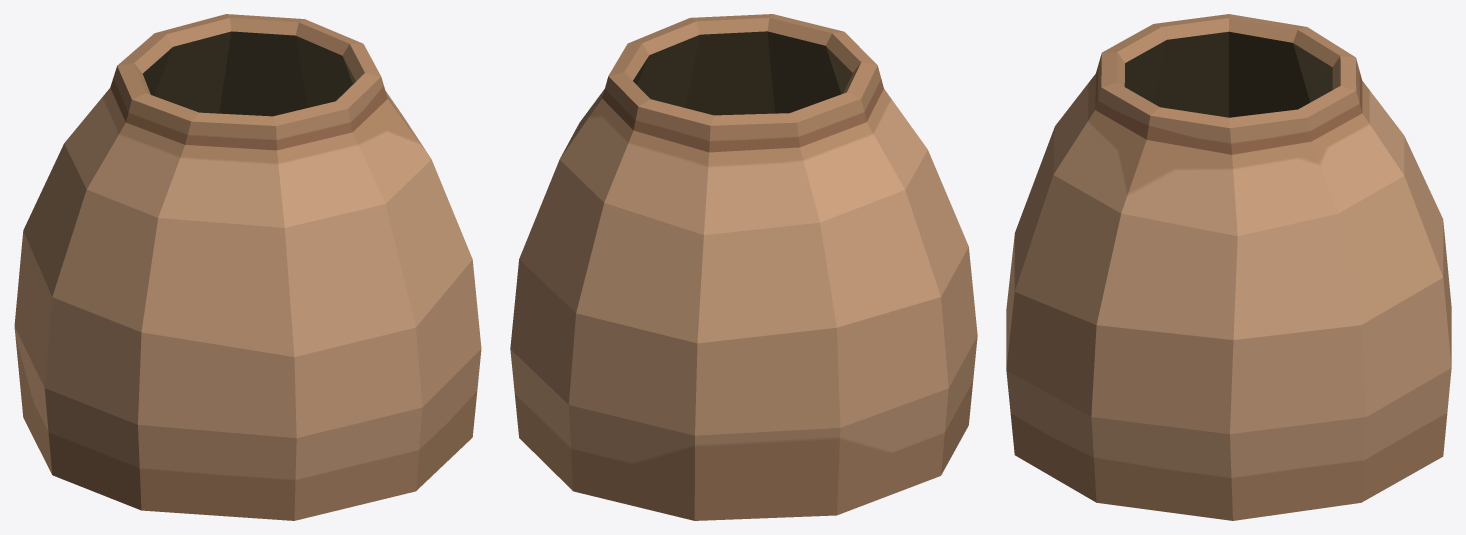
File: SM_Prop_ClayJar_01.glb
3 views of the same model, side by side, from view 1: azimuth 30°, elevation 25°; view 2: azimuth 150°, elevation 25°; view 3: azimuth 270°, elevation 25° (orthographic).
Parts seen in each view (by area): view 1: SM_Prop_ClayJar_01; view 2: SM_Prop_ClayJar_01; view 3: SM_Prop_ClayJar_01.
Part boxes in pixels (left/top/right/bottom): SM_Prop_ClayJar_01: left=14, top=14, right=481, bottom=520; SM_Prop_ClayJar_01: left=510, top=14, right=977, bottom=520; SM_Prop_ClayJar_01: left=1006, top=14, right=1451, bottom=520.
Bounding box in the file's own units: 1.25 × 1.06 × 1.19.
1 material, 1 textured.
